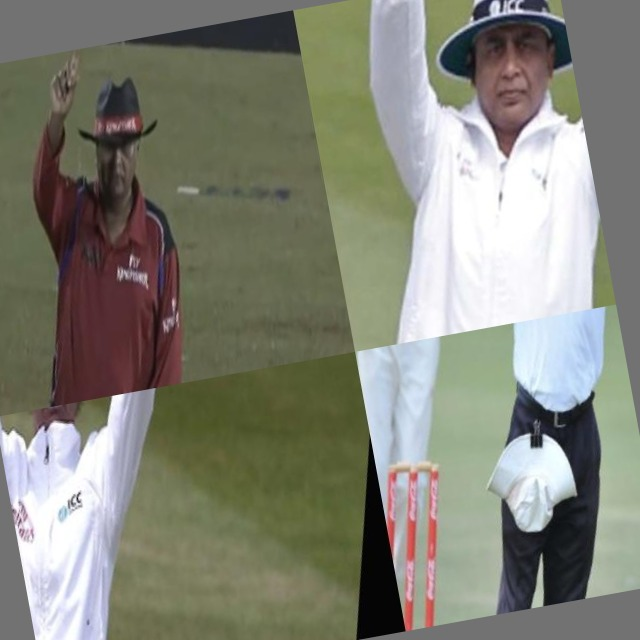Out: (0, 25, 272, 416)
Six: (293, 0, 616, 352), (0, 374, 282, 640)
Wide: (355, 304, 640, 542)
